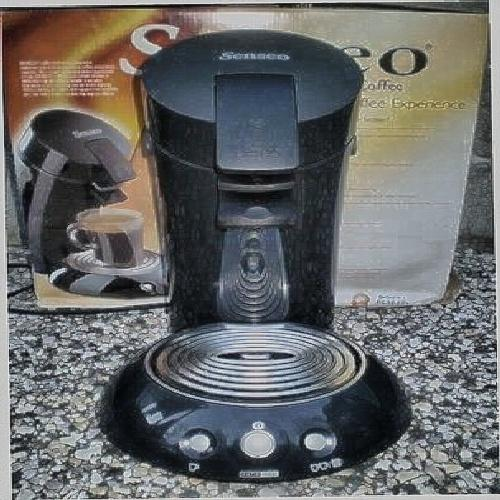coffee_maker: (100, 40, 402, 468)
